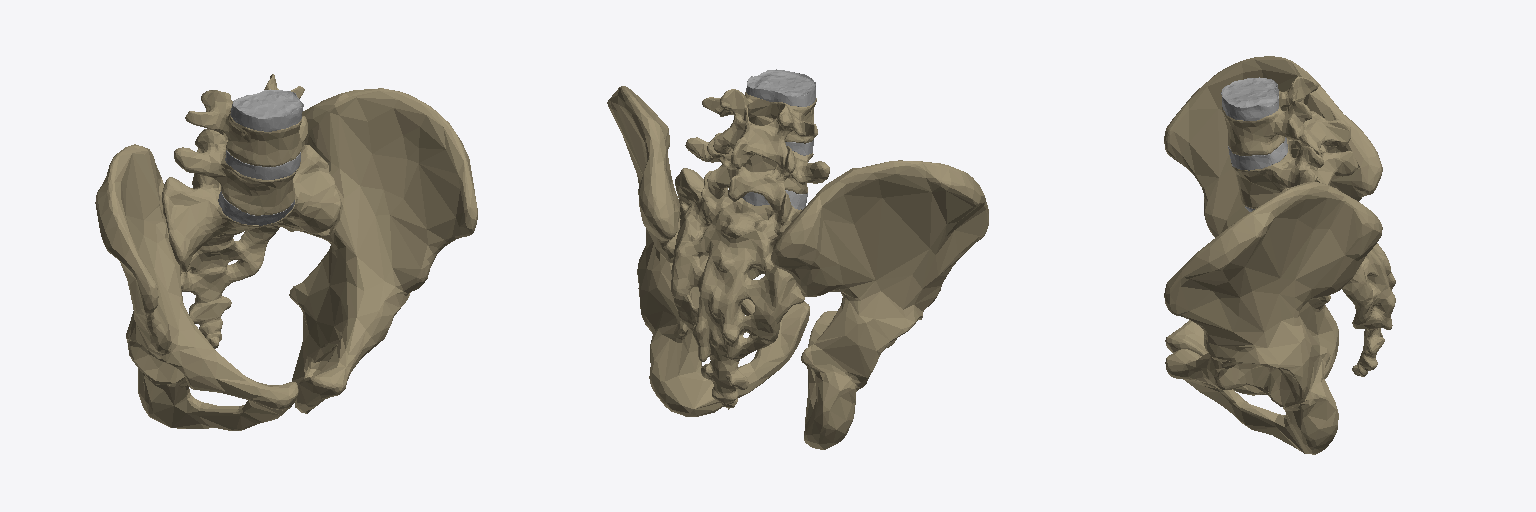
File: hip.obj
3 renders of one model, left to right at view 1: azimuth 30°, elevation 25°; view 2: azimuth 150°, elevation 25°; view 3: azimuth 270°, elevation 25°, orthographic.
Parts seen in each view (by area): view 1: 16587_L._hip_bone, 16586_R._hip_bone, 16202_sacrum, 13076_fifth_lumbar_ve, 13075_fourth_lumbar_v, 16035_intervertebral_, 16036_intervertebral_, 16037_intervertebral_; view 2: 16586_R._hip_bone, 16202_sacrum, 16587_L._hip_bone, 13075_fourth_lumbar_v, 13076_fifth_lumbar_ve, 16035_intervertebral_; view 3: 16587_L._hip_bone, 16586_R._hip_bone, 13075_fourth_lumbar_v, 13076_fifth_lumbar_ve, 16202_sacrum, 16035_intervertebral_, 16036_intervertebral_.
Boxes of the visible parts, x1=… form: 16587_L._hip_bone: x1=289, y1=88, x2=477, y2=413; 16586_R._hip_bone: x1=95, y1=144, x2=298, y2=430; 16202_sacrum: x1=162, y1=145, x2=340, y2=348; 13076_fifth_lumbar_ve: x1=174, y1=116, x2=307, y2=215; 13075_fourth_lumbar_v: x1=185, y1=74, x2=304, y2=166; 16035_intervertebral_: x1=230, y1=89, x2=303, y2=131; 16036_intervertebral_: x1=225, y1=150, x2=300, y2=179; 16037_intervertebral_: x1=218, y1=191, x2=294, y2=225; 16586_R._hip_bone: x1=771, y1=160, x2=988, y2=449; 16202_sacrum: x1=671, y1=168, x2=804, y2=409; 16587_L._hip_bone: x1=607, y1=86, x2=809, y2=416; 13075_fourth_lumbar_v: x1=702, y1=89, x2=817, y2=169; 13076_fifth_lumbar_ve: x1=685, y1=133, x2=829, y2=213; 16035_intervertebral_: x1=746, y1=69, x2=815, y2=106; 16587_L._hip_bone: x1=1164, y1=181, x2=1382, y2=454; 16586_R._hip_bone: x1=1164, y1=56, x2=1382, y2=395; 13075_fourth_lumbar_v: x1=1222, y1=76, x2=1350, y2=156; 13076_fifth_lumbar_ve: x1=1231, y1=138, x2=1357, y2=208; 16202_sacrum: x1=1320, y1=145, x2=1395, y2=376; 16035_intervertebral_: x1=1221, y1=77, x2=1278, y2=120; 16036_intervertebral_: x1=1228, y1=137, x2=1287, y2=170.
Size of the model in its own units: 10.2 by 9.04 by 5.68.